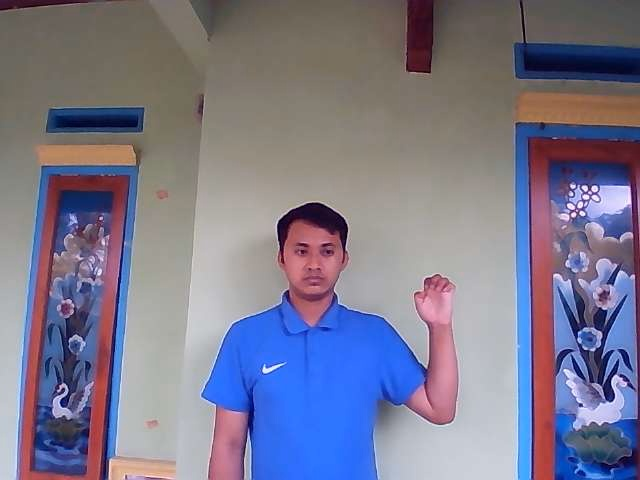E: (413, 273, 456, 325)
